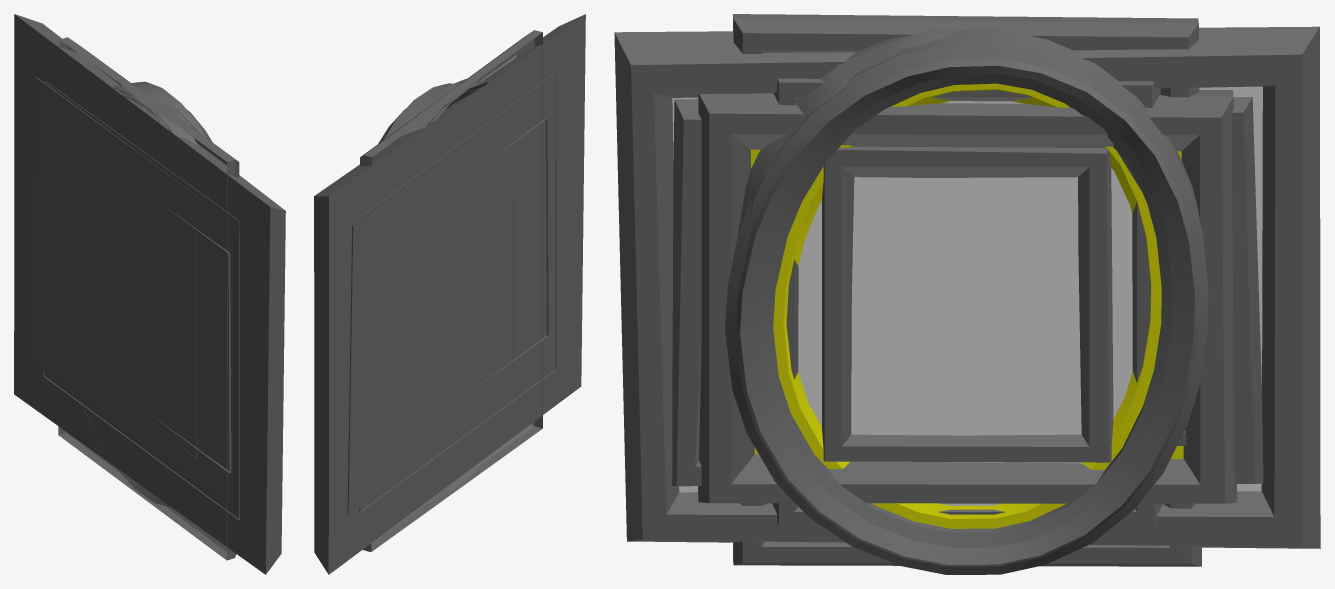
File: Picture.fbx
The picture shows the model from 3 angles, left to right: view 1: azimuth 30°, elevation 25°; view 2: azimuth 150°, elevation 25°; view 3: azimuth 270°, elevation 25°; orthographic projection. The views are drawn at different scales.
Visible parts, largest first — view 1: Picture_3, Picture_6, Picture_7, Picture_1, Picture_2, Picture_5, Picture_9; view 2: Picture_3, Picture_6, Picture_7, Picture_2, Picture_5, Picture_1, Picture_9; view 3: Picture_2, Picture_6, Picture_5, Picture_8, Picture_3, Picture_7, Picture_4, Picture_1.
Boxes of the visible parts, x1,y1,x2,y2 form: Picture_3: (30,77,231,508); Picture_6: (14,14,285,574); Picture_7: (58,37,239,560); Picture_1: (80,93,199,507); Picture_2: (112,81,212,485); Picture_5: (43,81,239,520); Picture_9: (150,205,231,473); Picture_3: (347,85,546,515); Picture_6: (314,14,585,574); Picture_7: (360,30,542,551); Picture_2: (378,83,545,499); Picture_5: (359,72,556,512); Picture_1: (395,79,488,498); Picture_9: (469,118,548,392); Picture_2: (725,27,1208,574); Picture_6: (614,26,1320,548); Picture_5: (698,90,1237,503); Picture_8: (822,146,1113,462); Picture_3: (672,97,1263,486); Picture_7: (733,14,1201,566); Picture_4: (772,78,1162,525); Picture_1: (738,28,1146,233).
Size of the model in its own units: 15.27 by 132 by 155.
